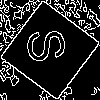S: (25, 25, 76, 65)
